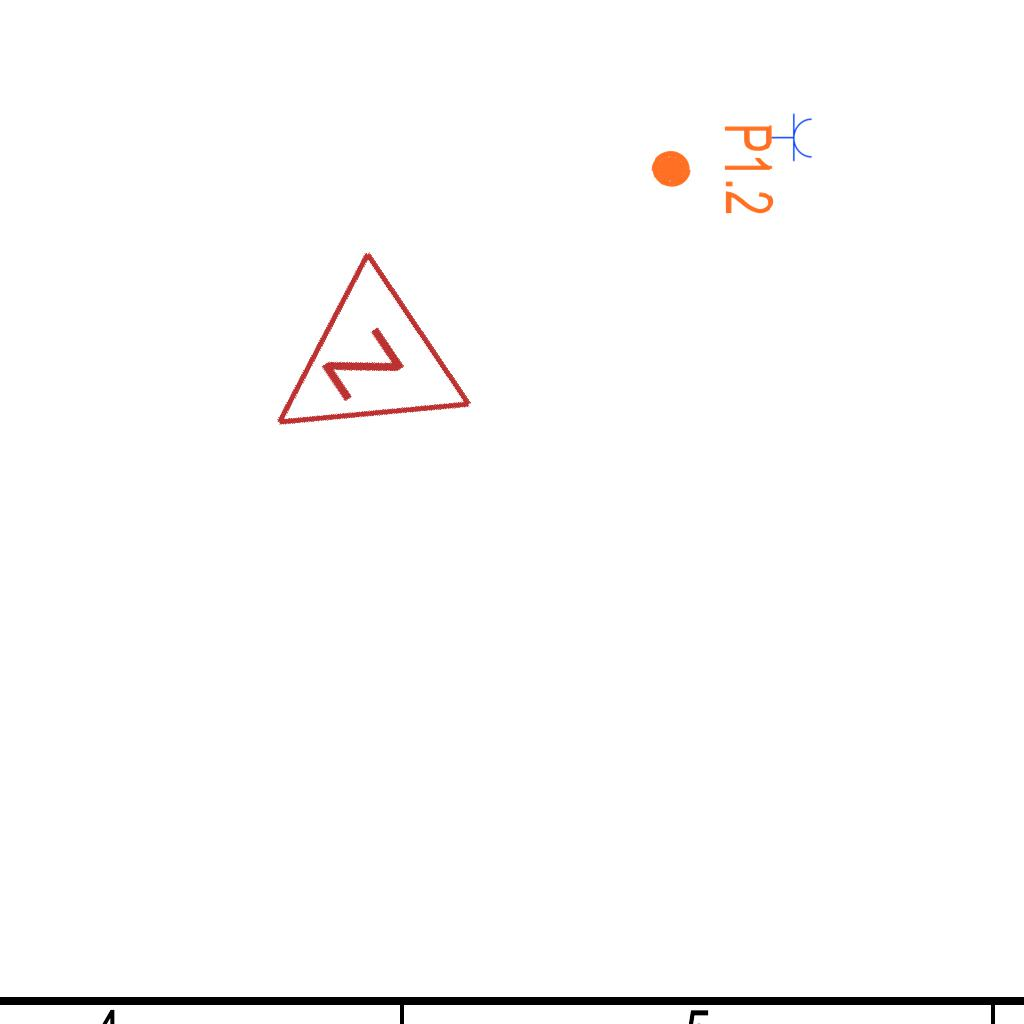Downlight_LED_Einbauleuchten_Flur: (647, 122, 778, 218)
Schukosteckdose_einfach: (771, 113, 814, 163)
Zimmersignalleuchte: (213, 239, 489, 515)
